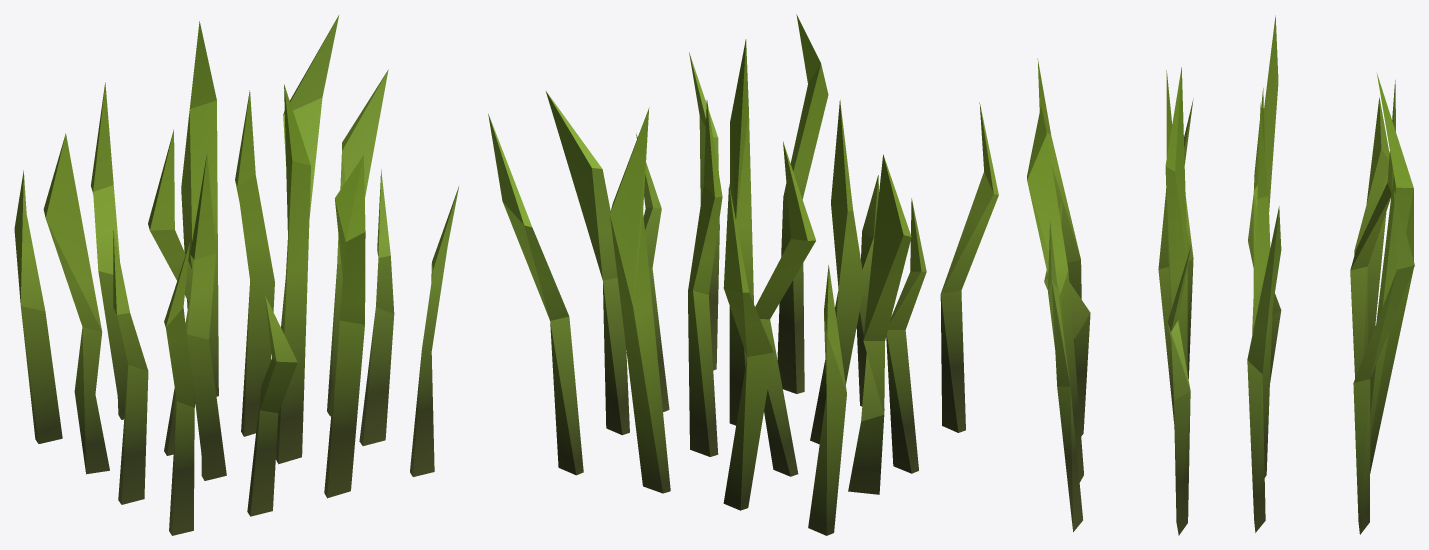
Rendered from small_grass.fbx.
3 views of the same model, side by side, from view 1: azimuth 30°, elevation 25°; view 2: azimuth 150°, elevation 25°; view 3: azimuth 270°, elevation 25° (orthographic). The views are drawn at different scales.
Visible parts, largest first — view 1: small_grass; view 2: small_grass; view 3: small_grass.
Part boxes in pixels (x1,y1,x2,y2): small_grass: (14, 15, 458, 535); small_grass: (488, 14, 998, 535); small_grass: (1027, 15, 1414, 535).
Size of the model in its own units: 0.2904 by 0.3002 by 0.2536.
